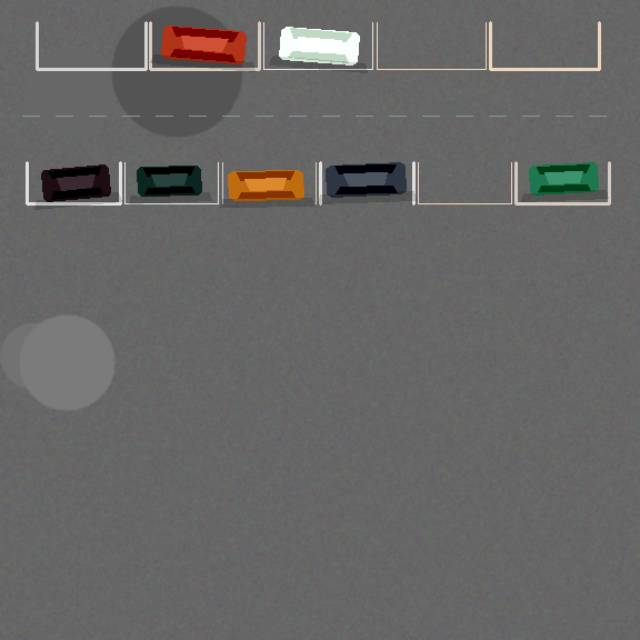space-empty: (37, 22, 146, 69), (377, 22, 486, 69), (490, 22, 599, 69), (418, 162, 511, 203)
space-occupied: (150, 22, 259, 69), (263, 22, 372, 69), (124, 162, 218, 203), (222, 162, 316, 203), (27, 162, 120, 203), (320, 162, 413, 203), (516, 162, 609, 203)
